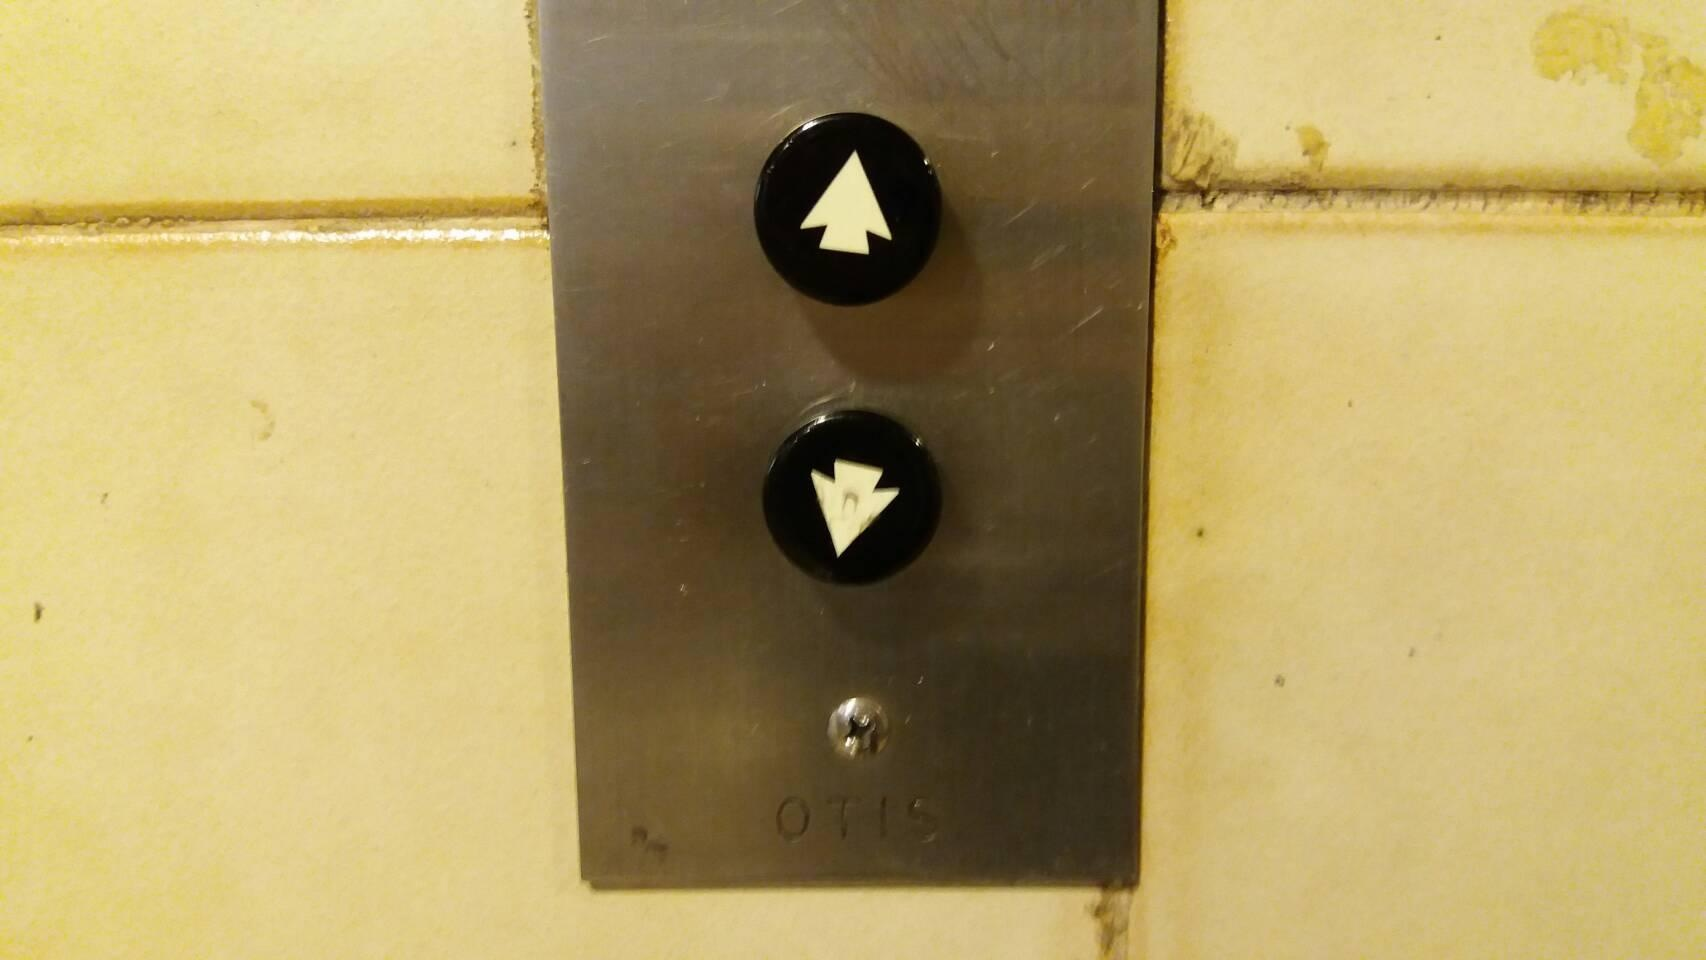down: (760, 406, 946, 588)
up: (751, 111, 943, 308)
